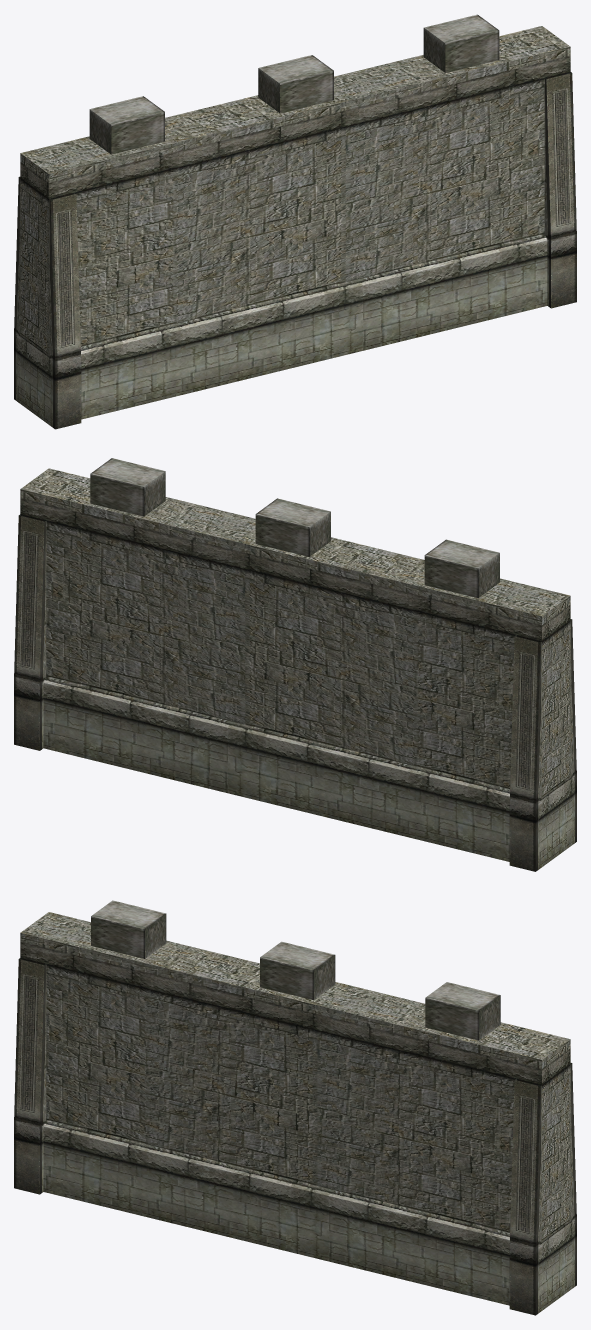
The model's file is ob-bigdam-06.fbx.
3 renders of one model, top to bottom at view 1: azimuth 30°, elevation 25°; view 2: azimuth 150°, elevation 25°; view 3: azimuth 330°, elevation 25°, orthographic.
Visible parts, largest first — view 1: ob-bigdam-01; view 2: ob-bigdam-01; view 3: ob-bigdam-01.
Boxes of the visible parts, x1=… form: ob-bigdam-01: x1=14, y1=14, x2=576, y2=429; ob-bigdam-01: x1=14, y1=458, x2=576, y2=871; ob-bigdam-01: x1=14, y1=900, x2=576, y2=1315.
Size of the model in its own units: 10.01 by 5.14 by 1.37.
